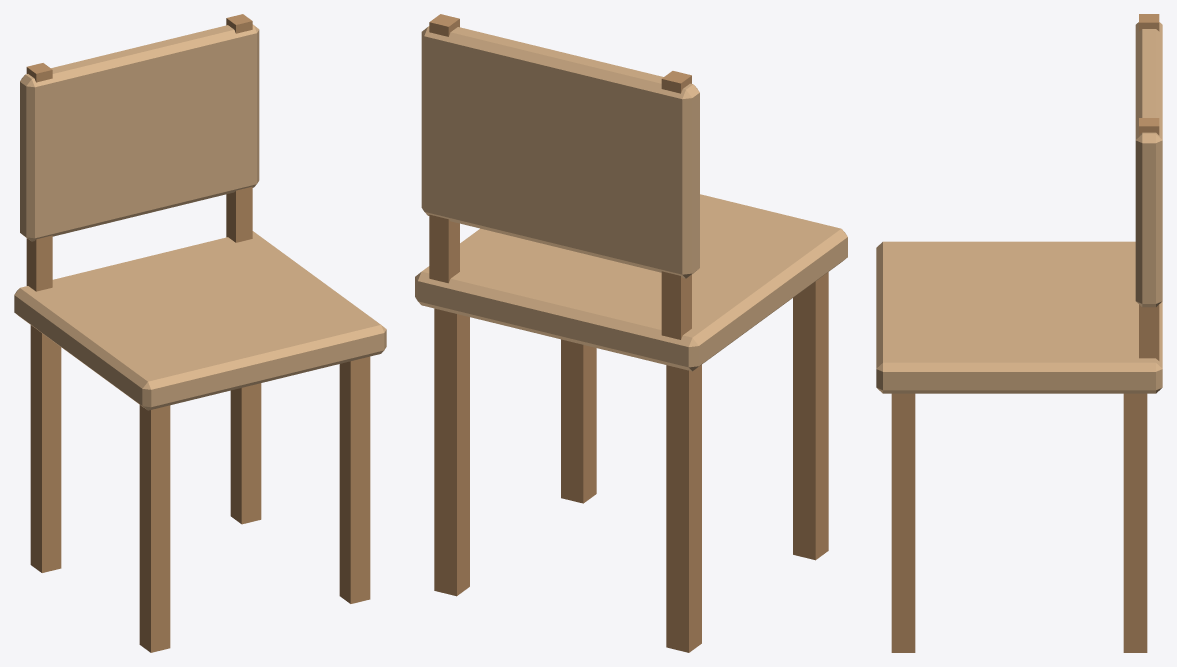
File: chair_visitor.glb
The picture shows the model from 3 angles, left to right: view 1: azimuth 30°, elevation 25°; view 2: azimuth 150°, elevation 25°; view 3: azimuth 270°, elevation 25°; orthographic projection. The views are drawn at different scales.
Parts seen in each view (by area): view 1: chair_visitor; view 2: chair_visitor; view 3: chair_visitor.
Part boxes in pixels (bbox=[...]): chair_visitor: bbox=[14, 14, 386, 652]; chair_visitor: bbox=[415, 14, 847, 652]; chair_visitor: bbox=[876, 14, 1162, 652].
Size of the model in its own units: 0.44 by 0.85 by 0.42.
1 material, 1 textured.
